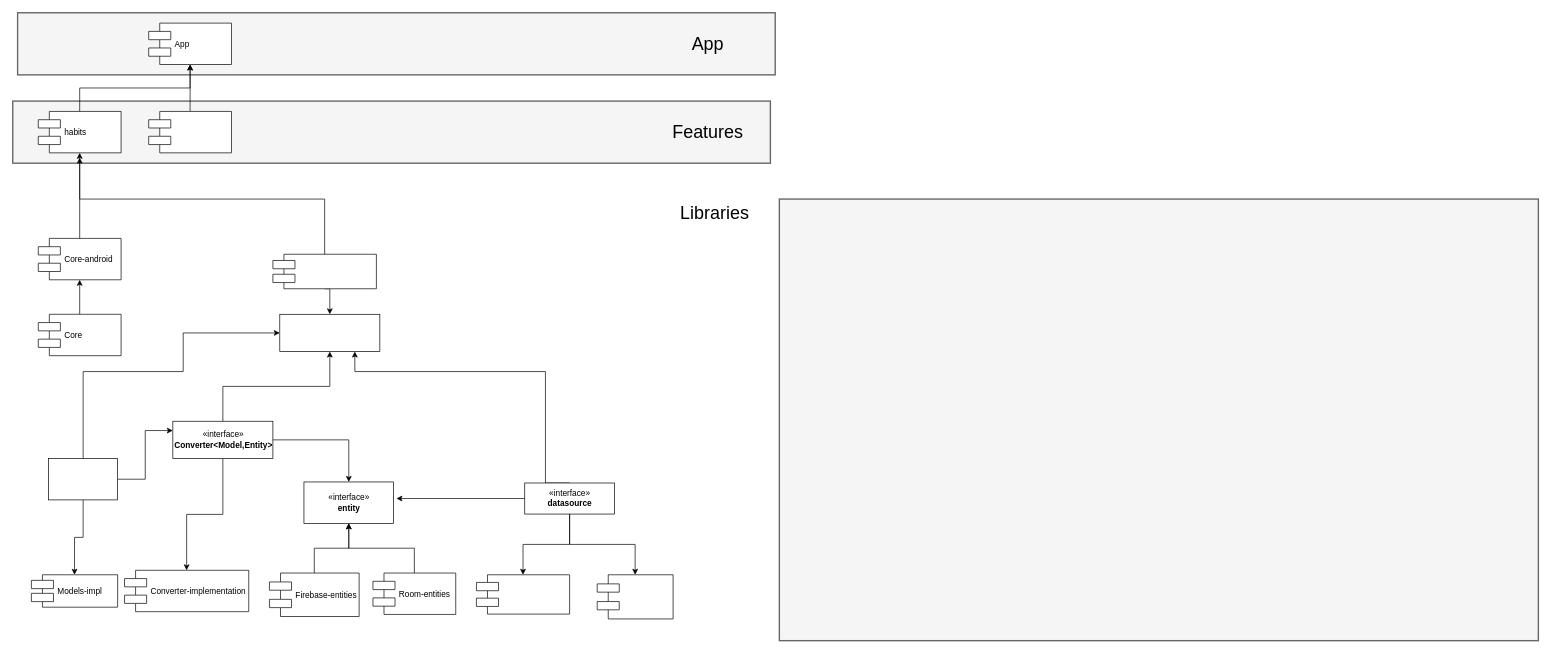
Some shapes in this 1550 by 653 pixel diagram are drawn without their labels. The centre of each missing label's shape, as x and y in pixels:
firebase: [635,596]
Login: [189,132]
Repository-impl: [324,271]
Room database: [523,594]
«interface» model: [83,479]
«interface» Repository<Model>: [329,333]
